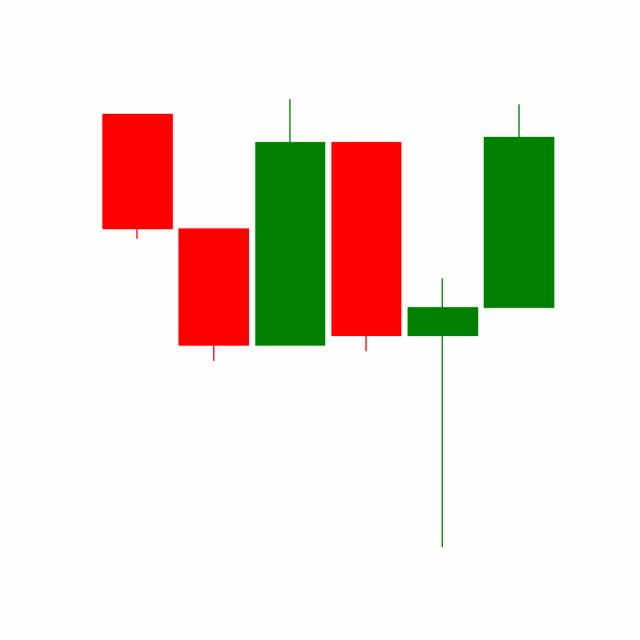Spinning Top: (403, 276, 481, 550)
